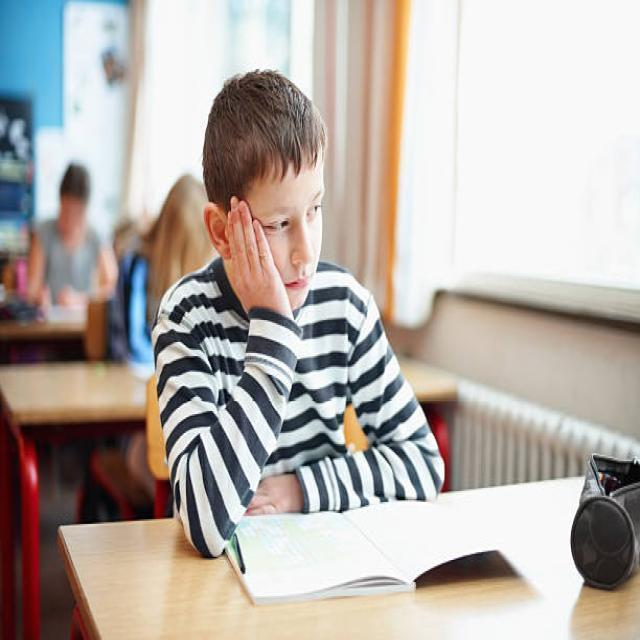Looking away: (248, 160, 324, 313)
